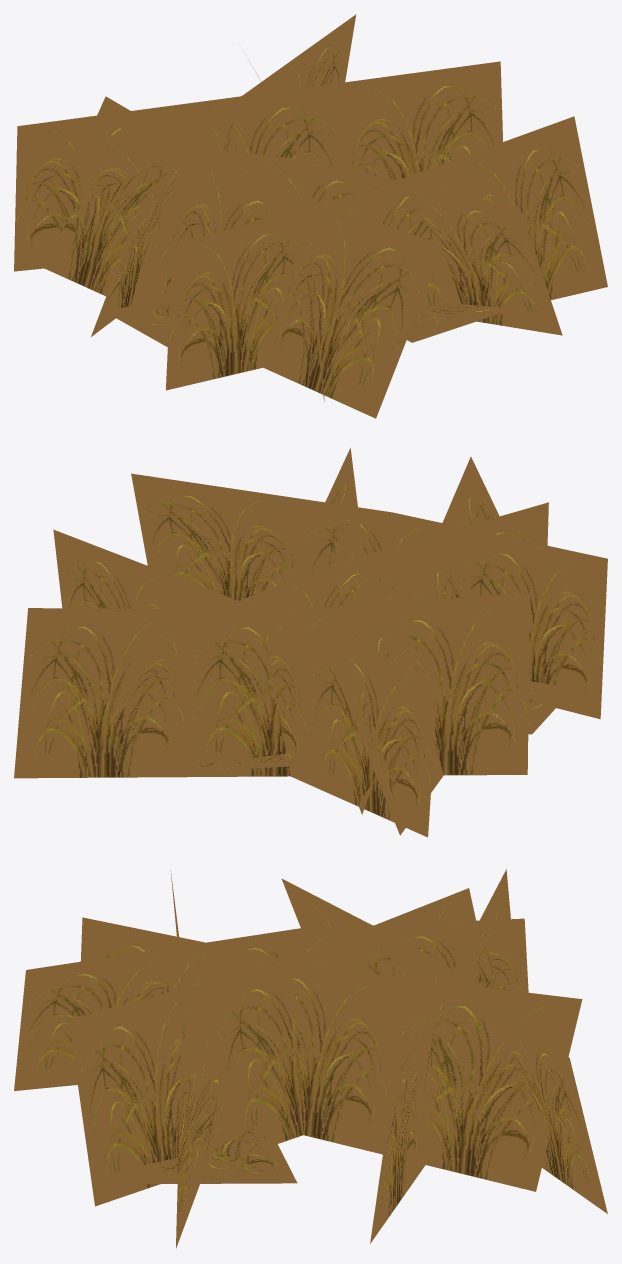
File: group_grs03_1.glb
3 views of the same model, one above another, from view 1: azimuth 30°, elevation 25°; view 2: azimuth 150°, elevation 25°; view 3: azimuth 270°, elevation 25° (orthographic). The views are drawn at different scales.
Visible parts, largest first — view 1: group_grs03_1; view 2: group_grs03_1; view 3: group_grs03_1.
Boxes of the visible parts, x1,y1,x2,y2 form: group_grs03_1: [14, 14, 607, 418]; group_grs03_1: [14, 448, 607, 837]; group_grs03_1: [14, 869, 607, 1248].
Size of the model in its own units: 4.08 by 1.34 by 4.55.
1 material, 1 textured.
